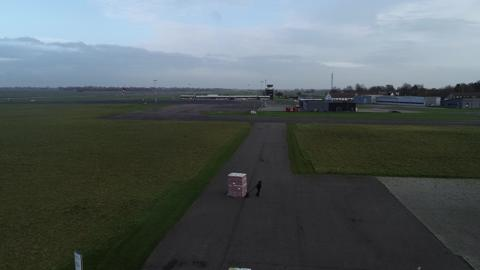RockwoolPallet: (225, 169, 248, 198)
